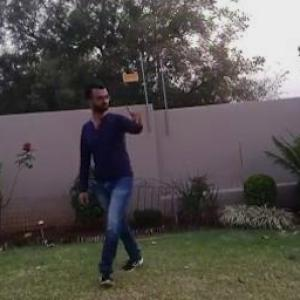takeoff-hand: (120, 102, 146, 137)
